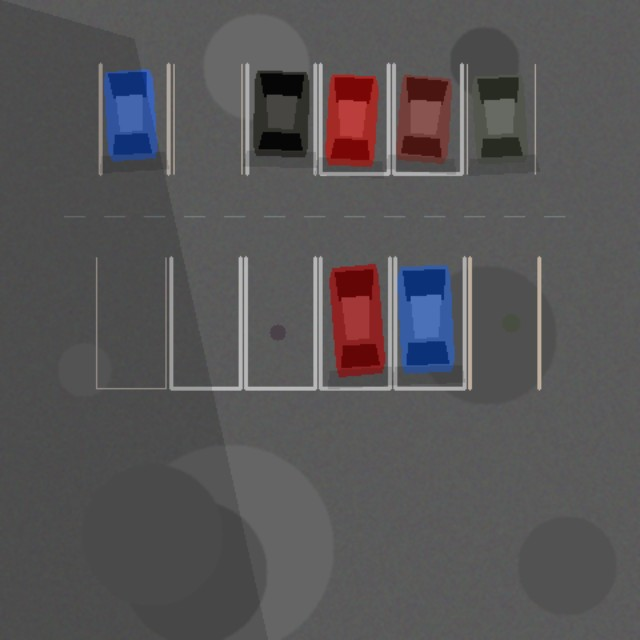space-empty: (245, 257, 315, 388), (469, 257, 539, 388), (96, 257, 165, 388), (171, 257, 240, 388), (173, 64, 241, 173)
space-occupied: (320, 257, 389, 388), (395, 257, 464, 388), (100, 64, 168, 173), (247, 64, 315, 173), (320, 64, 388, 173), (393, 64, 461, 173), (467, 64, 535, 173)
